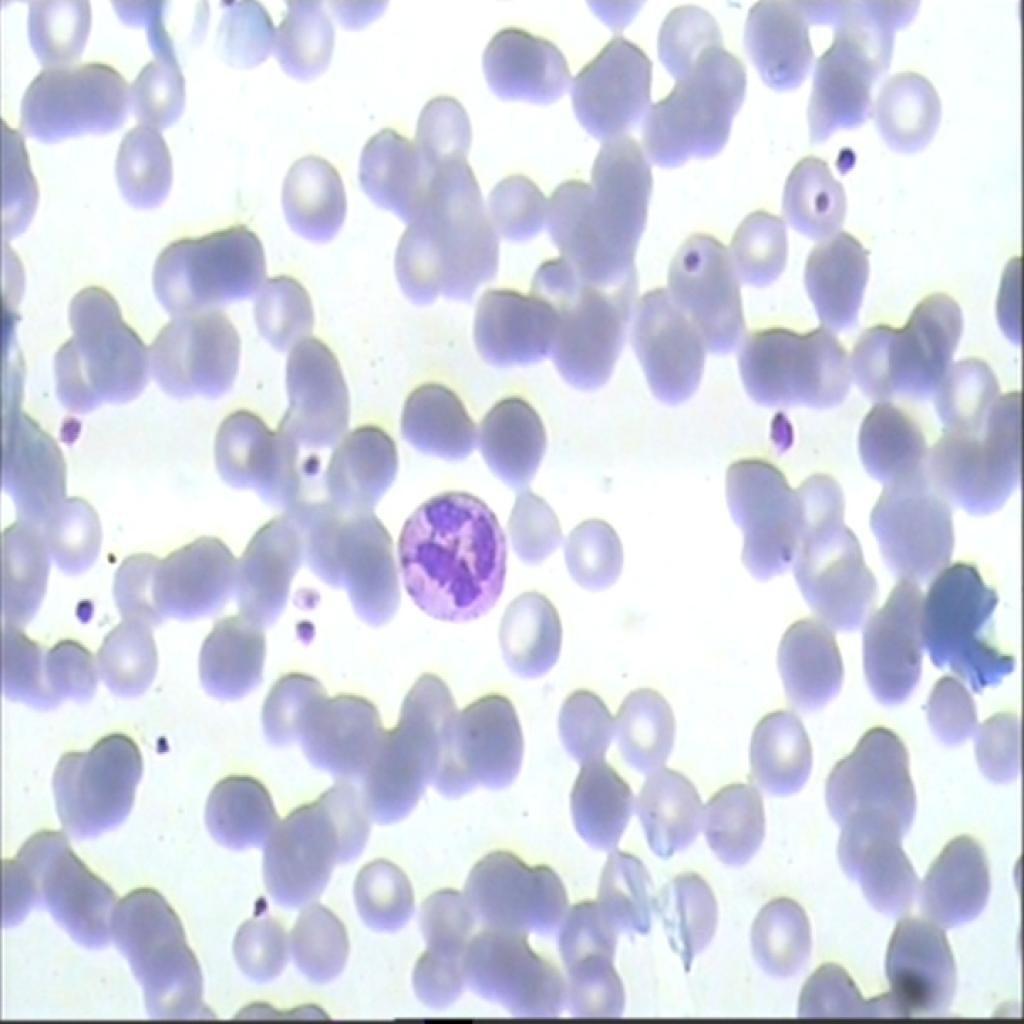Neutrofil: (390, 487, 516, 626)
Platelet: (243, 871, 286, 933), (826, 134, 865, 190), (766, 412, 798, 468), (290, 613, 330, 656), (290, 441, 327, 485), (144, 724, 179, 770), (677, 238, 717, 278), (68, 582, 100, 630), (50, 398, 80, 446), (290, 578, 330, 612), (802, 187, 835, 222), (104, 542, 122, 576)
